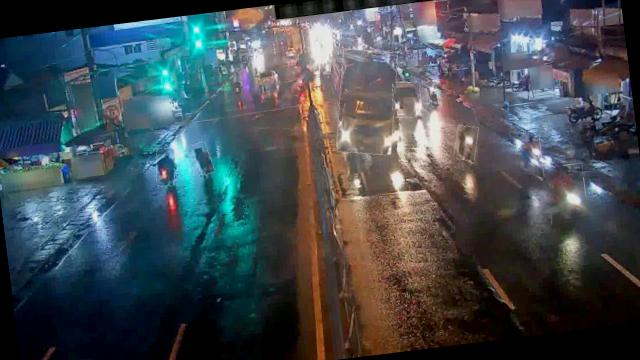Bike: (543, 162, 588, 224), (520, 134, 544, 178), (452, 123, 479, 161), (153, 147, 177, 187), (564, 102, 604, 121), (192, 140, 213, 176), (426, 80, 441, 108)
Car: (390, 80, 422, 119)
Truck: (330, 45, 404, 158)
